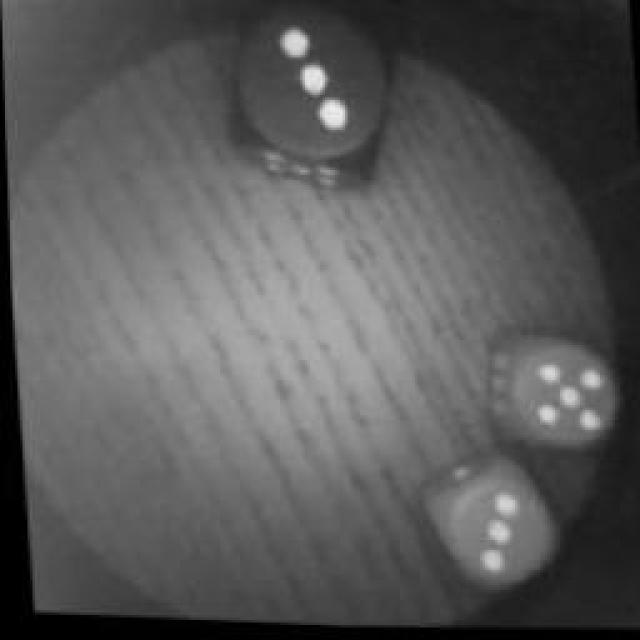dice_3: (220, 0, 400, 188), (420, 460, 550, 605)
dice_5: (482, 324, 626, 468)
